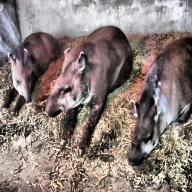boar: (44, 24, 134, 154), (127, 36, 192, 166), (2, 30, 62, 117)
